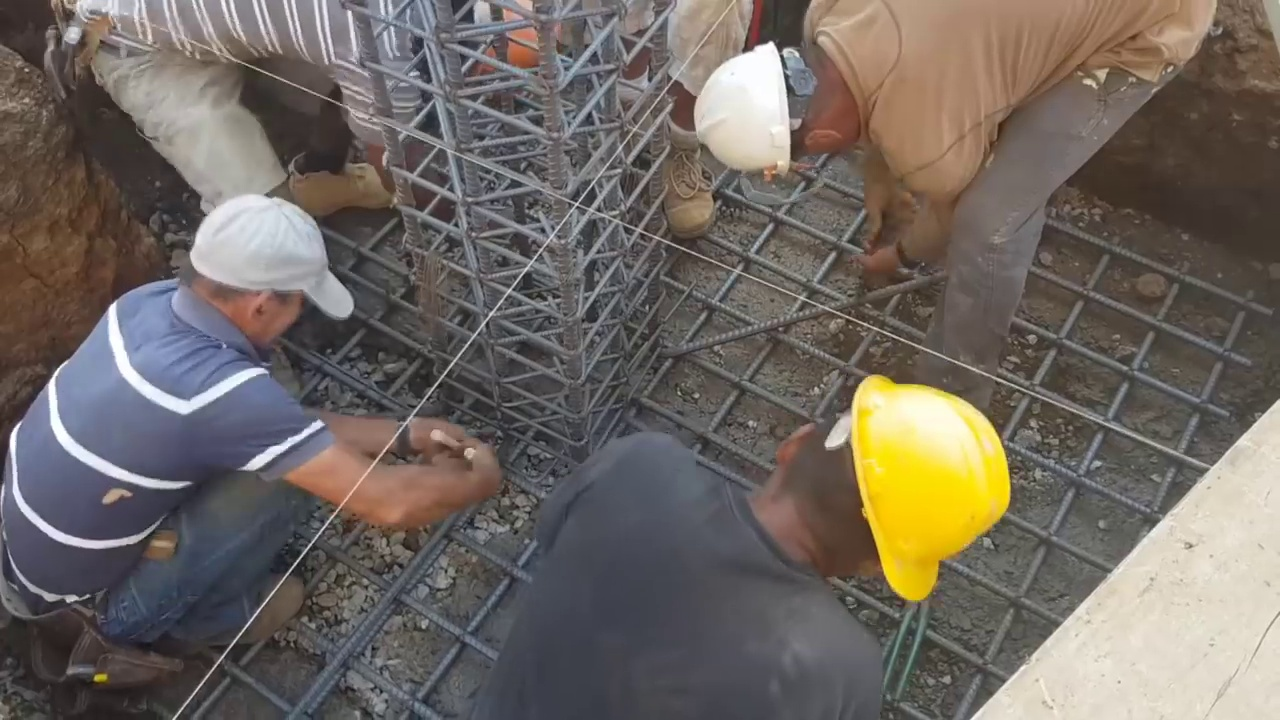helmet: (810, 385, 1006, 613), (696, 41, 809, 177), (480, 2, 543, 78)
helmet-off: (179, 196, 354, 345)
helmet-on: (728, 393, 1009, 622), (699, 27, 871, 185), (426, 0, 546, 84)
person: (5, 177, 510, 674), (692, 0, 1233, 401), (488, 393, 1006, 720), (51, 2, 554, 207), (543, 0, 715, 249)
